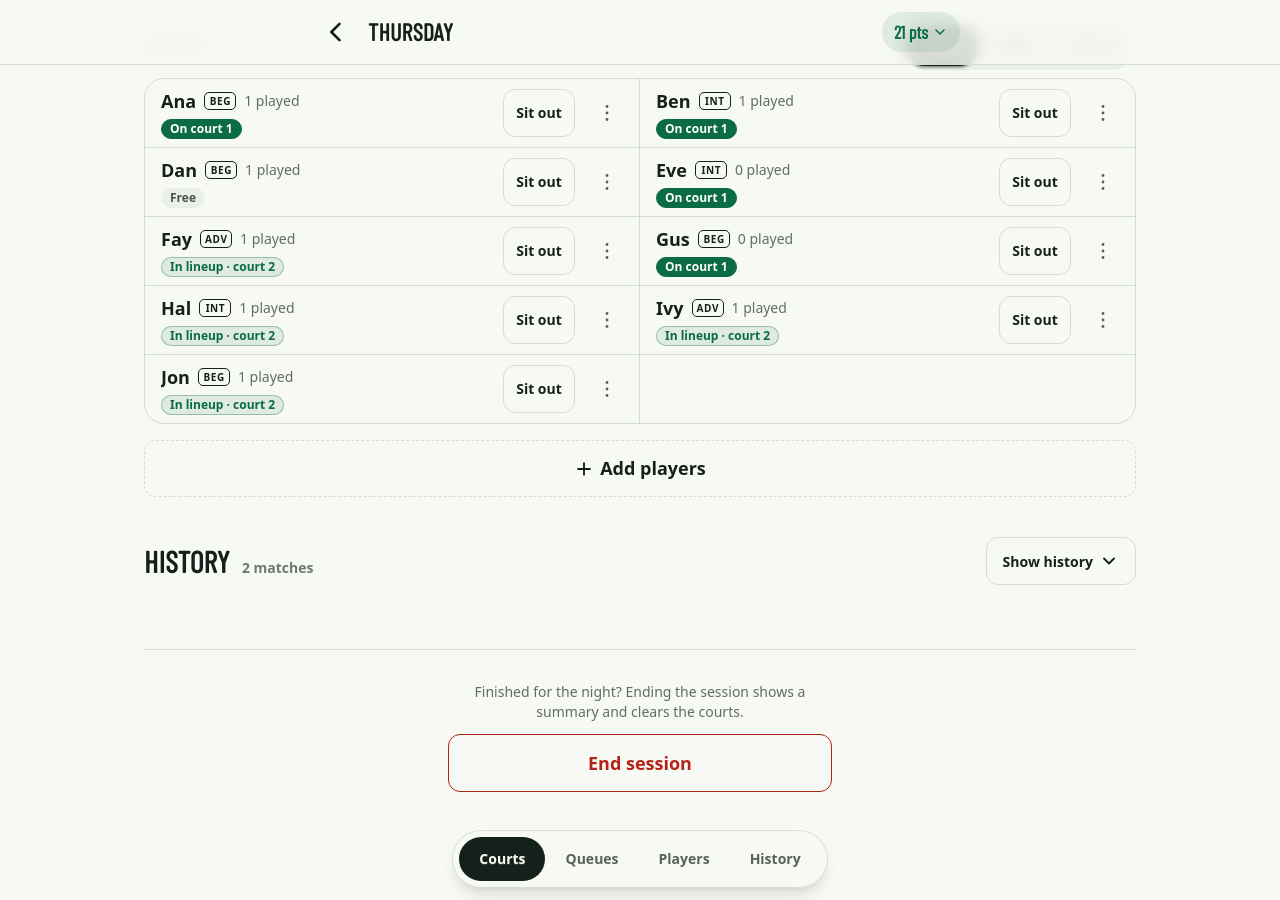
HistorySection › still shows removed players in History
This screenshot has width=1280, height=900.
(page scrolled)
Click the button "Show history" at (1061, 561), box [986,537,1136,585]
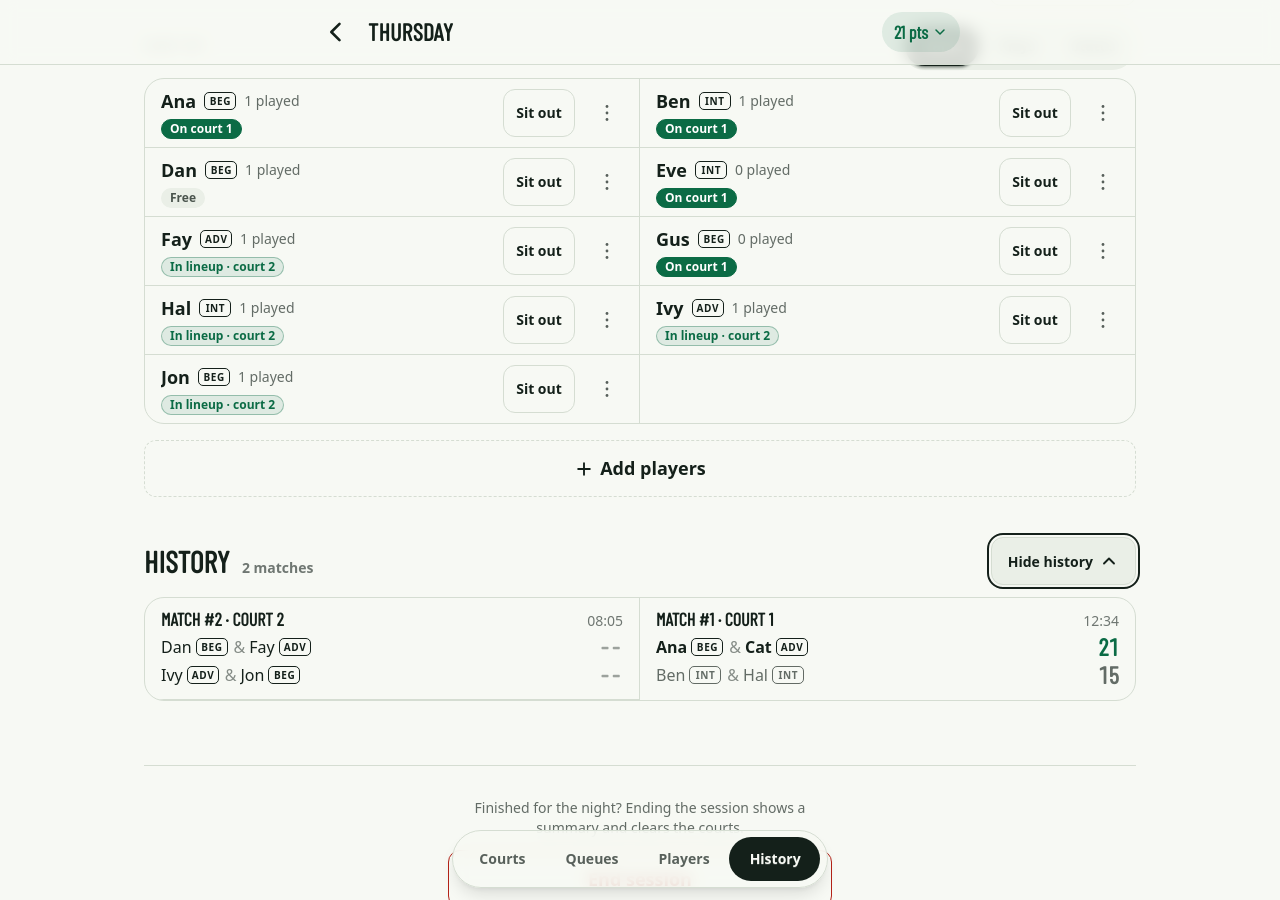
Now the text "Cat" is shown, box [745,635,772,659]
